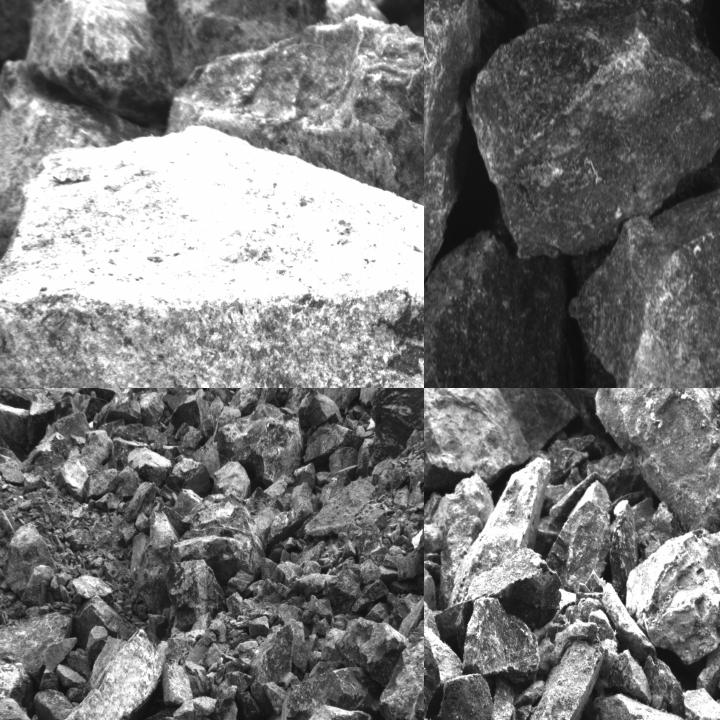stone: (0, 123, 423, 387), (466, 0, 719, 253), (165, 13, 423, 256), (567, 178, 719, 387), (424, 226, 580, 387), (26, 0, 178, 127), (594, 388, 719, 535), (424, 388, 580, 495), (447, 457, 551, 609), (625, 526, 719, 666), (54, 626, 167, 719), (464, 548, 562, 631), (545, 480, 611, 594), (170, 495, 264, 573), (517, 637, 603, 719), (462, 596, 540, 684), (217, 403, 300, 482), (335, 618, 409, 687), (365, 388, 423, 469), (0, 611, 74, 672), (165, 559, 225, 630), (5, 524, 57, 596), (249, 624, 293, 707), (303, 424, 362, 472), (171, 388, 224, 441), (437, 673, 493, 719), (608, 649, 652, 704), (162, 658, 199, 706), (328, 566, 364, 615), (127, 446, 173, 484), (0, 654, 32, 707), (56, 457, 90, 506), (166, 459, 212, 495), (97, 388, 143, 423), (214, 462, 252, 501), (304, 393, 342, 430), (325, 388, 388, 408), (352, 579, 389, 613), (34, 688, 74, 719), (85, 468, 121, 502), (681, 687, 719, 719), (136, 391, 166, 428), (292, 634, 318, 674), (224, 570, 254, 599), (86, 626, 108, 662), (260, 558, 286, 584)
